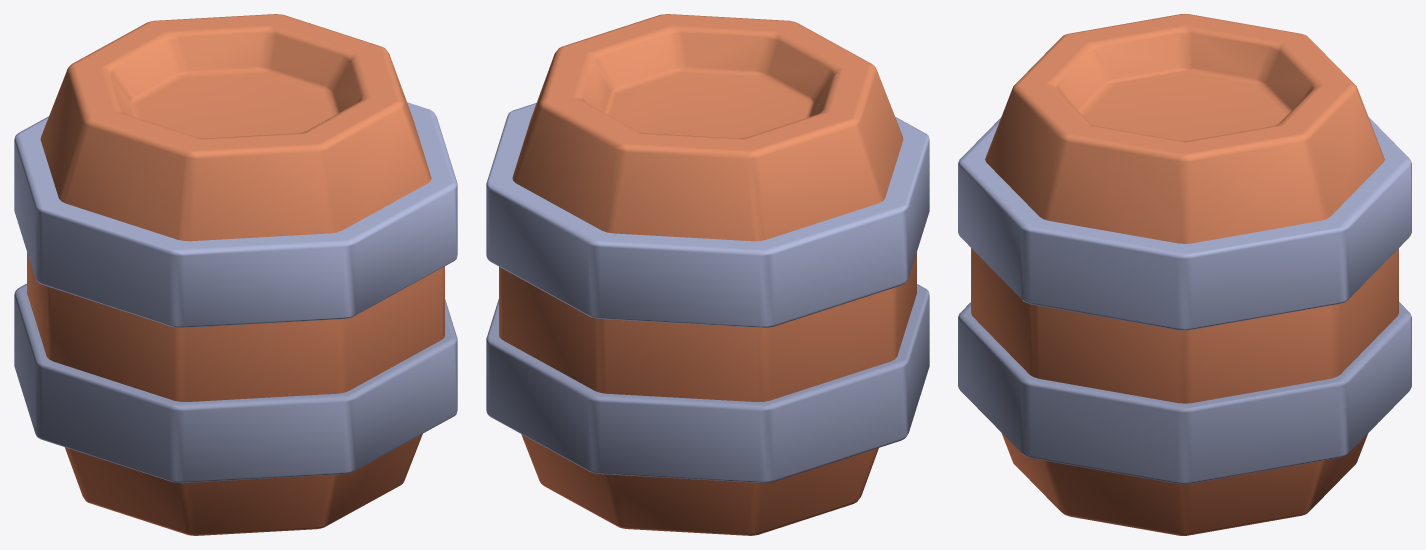
Rendered from barrel.glb.
3 renders of one model, left to right at view 1: azimuth 30°, elevation 25°; view 2: azimuth 150°, elevation 25°; view 3: azimuth 270°, elevation 25°, orthographic.
Visible parts, largest first — view 1: barrel; view 2: barrel; view 3: barrel.
Boxes of the visible parts, box(x1,y1,x2,y2) form: barrel: box(14, 14, 457, 535); barrel: box(486, 14, 929, 535); barrel: box(958, 14, 1411, 535).
Size of the model in its own units: 1.33 by 1.23 by 1.33.
Materials: 1 (1 with a texture image).
